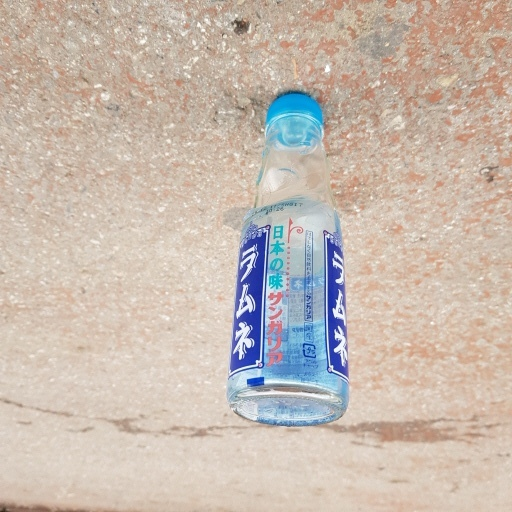Glass_4: (219, 85, 361, 427)
